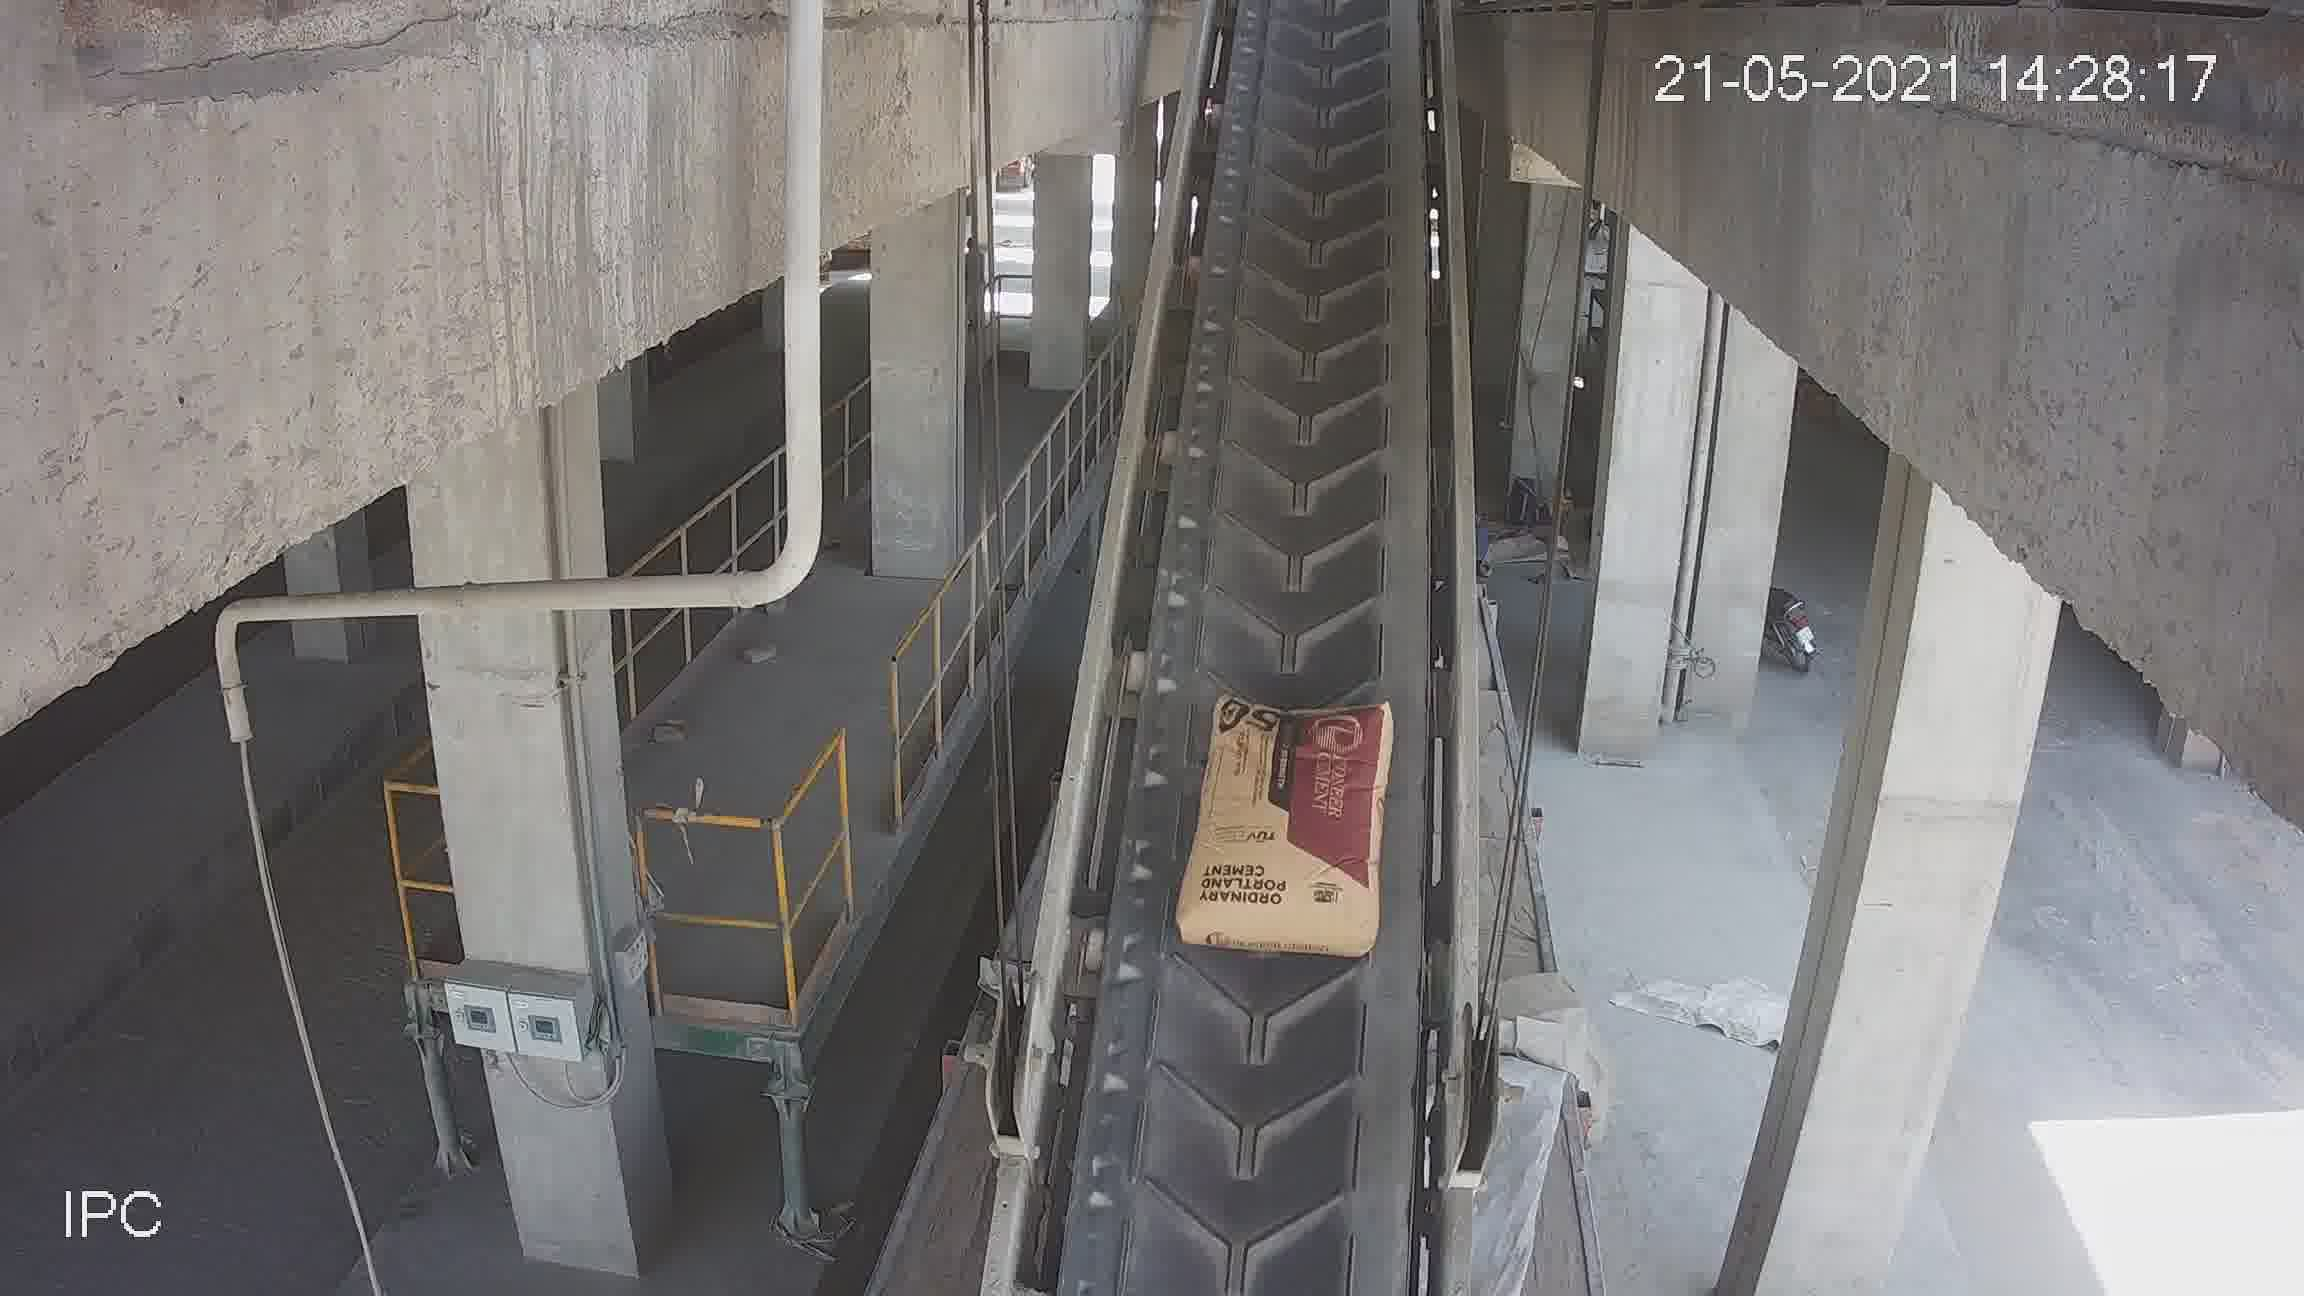bag: (1173, 711, 1388, 953)
belt: (1057, 28, 1472, 1258)
